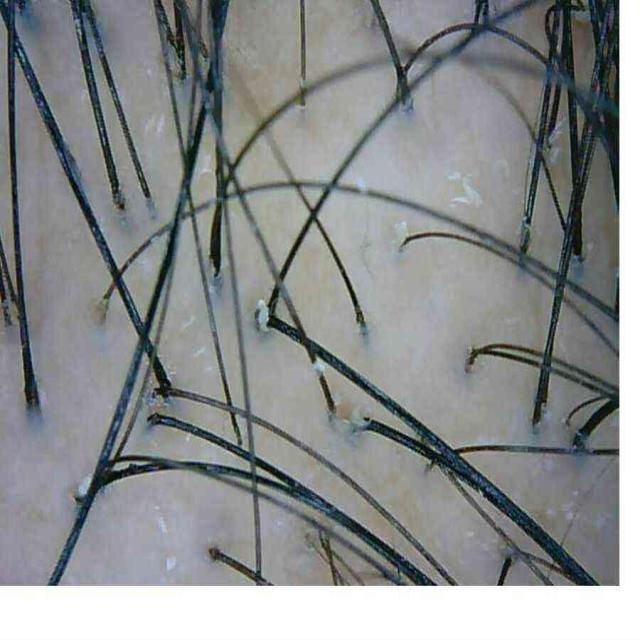d: (452, 181, 481, 205), (256, 296, 270, 330), (312, 359, 325, 374)
